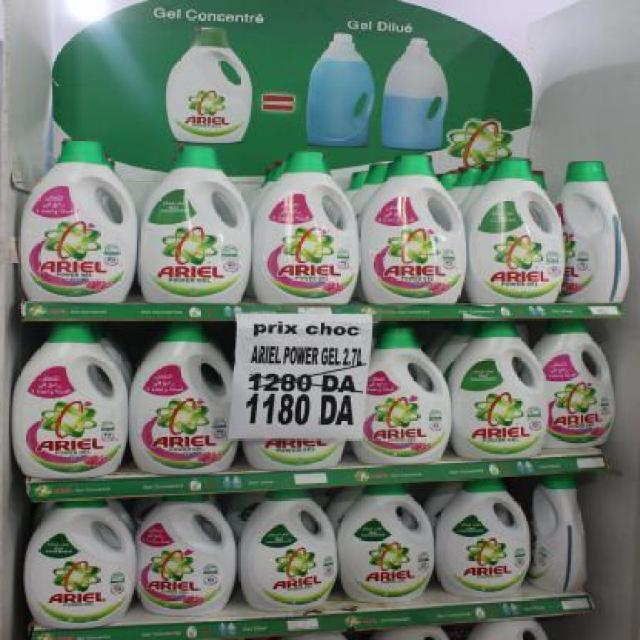Detergent: (20, 127, 143, 306), (132, 140, 255, 302), (11, 320, 127, 478), (253, 137, 361, 306), (359, 151, 467, 304), (130, 321, 238, 474), (20, 502, 140, 628), (354, 325, 460, 463), (466, 162, 569, 304), (448, 328, 548, 458), (238, 484, 337, 614), (436, 474, 533, 594), (334, 492, 434, 602), (543, 317, 622, 448)
